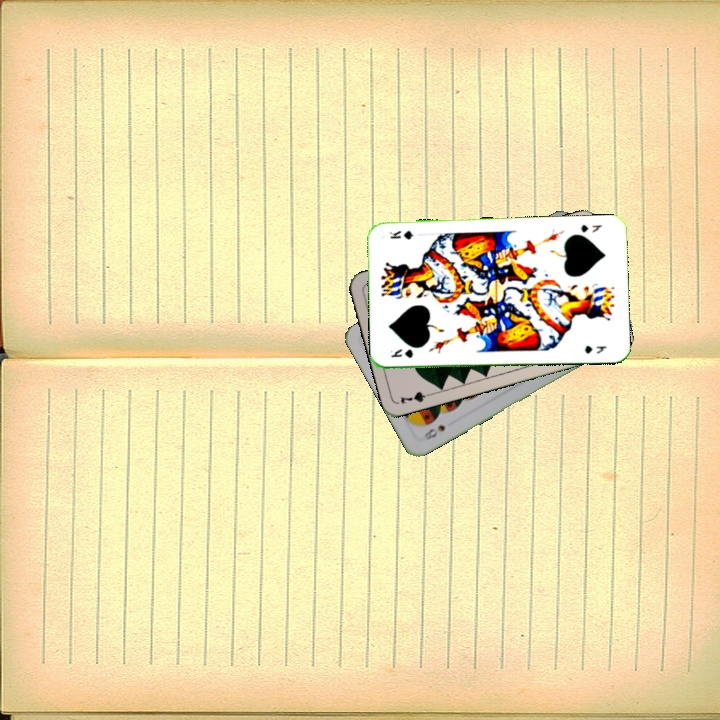G7: (396, 387, 436, 407)
GK: (387, 345, 416, 360), (577, 220, 604, 235)
S8: (420, 421, 448, 443)
